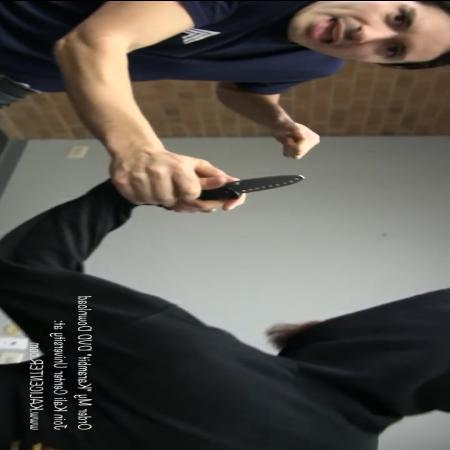long weapon: (162, 168, 314, 216)
